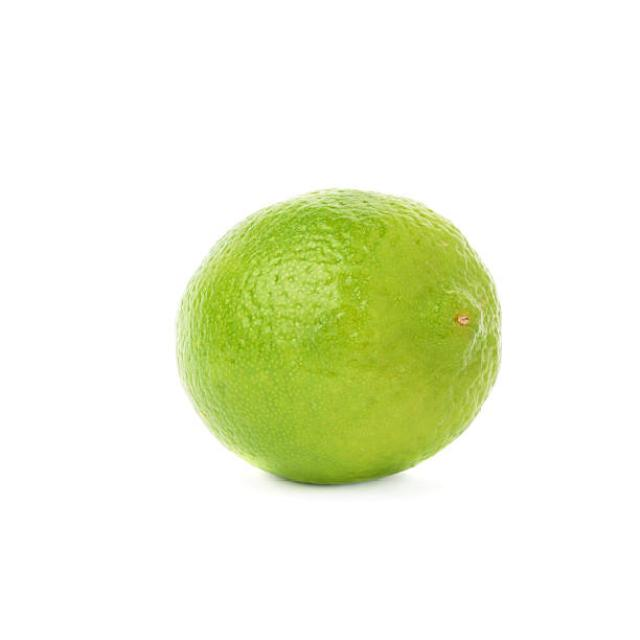Unripe: (171, 187, 503, 486)
